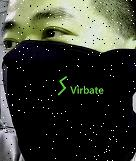with_mask: (1, 1, 136, 161)
